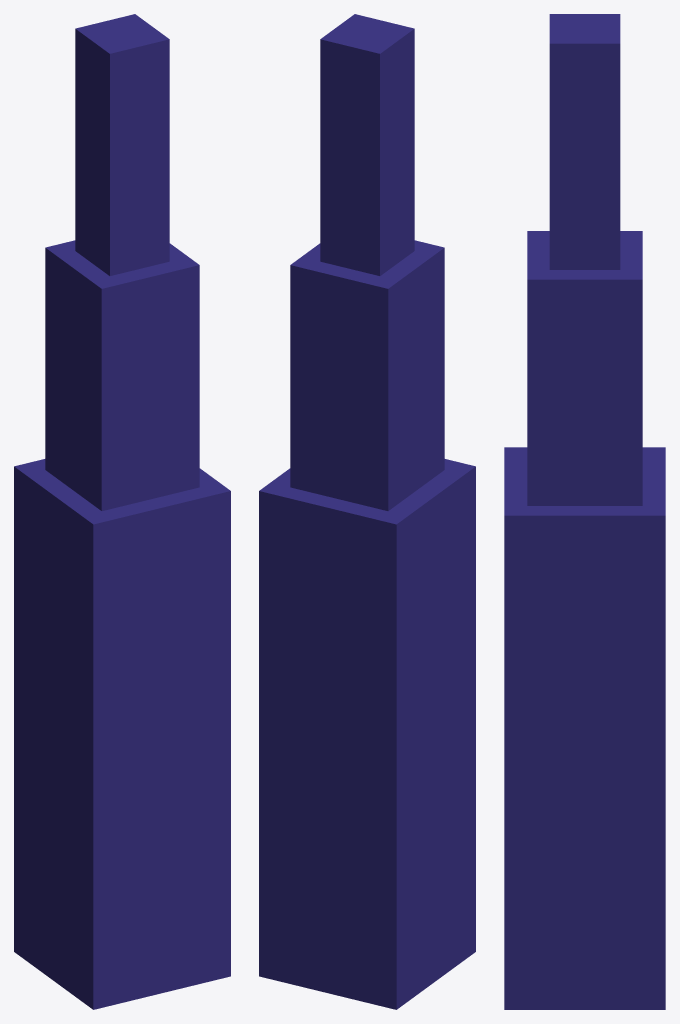
The model's file is SM_Build_01.fbx.
The picture shows the model from 3 angles, left to right: view 1: azimuth 30°, elevation 25°; view 2: azimuth 150°, elevation 25°; view 3: azimuth 270°, elevation 25°; orthographic projection.
Visible parts, largest first — view 1: Cube.102; view 2: Cube.102; view 3: Cube.102.
Boxes of the visible parts, x1,y1,x2,y2 form: Cube.102: (14,14,230,1009); Cube.102: (259,14,475,1009); Cube.102: (504,14,665,1009).
Bounding box in the file's own units: 1655 × 10697 × 1655.
